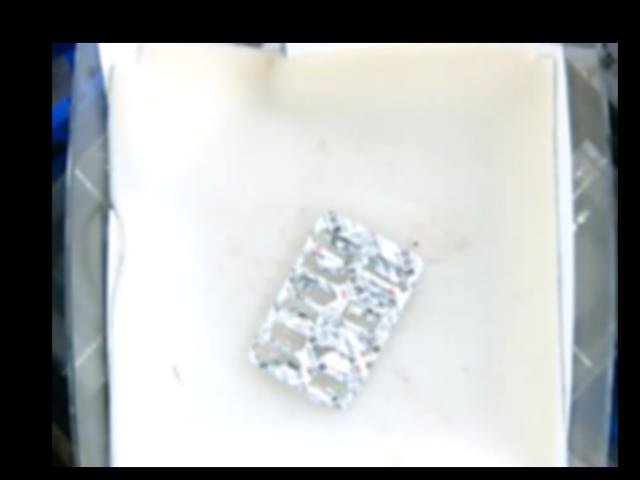Medicine: (250, 211, 425, 407)
